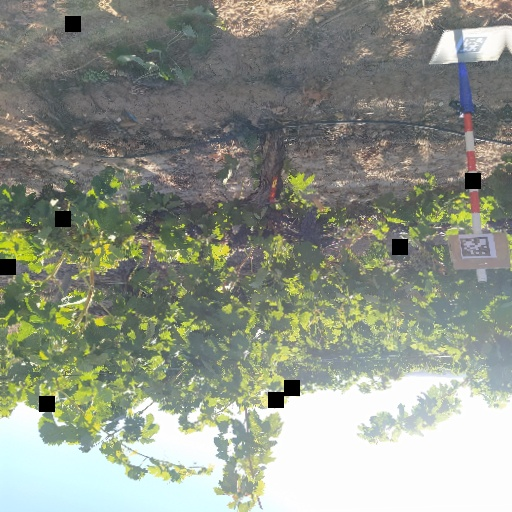QR: (462, 237, 489, 257)
